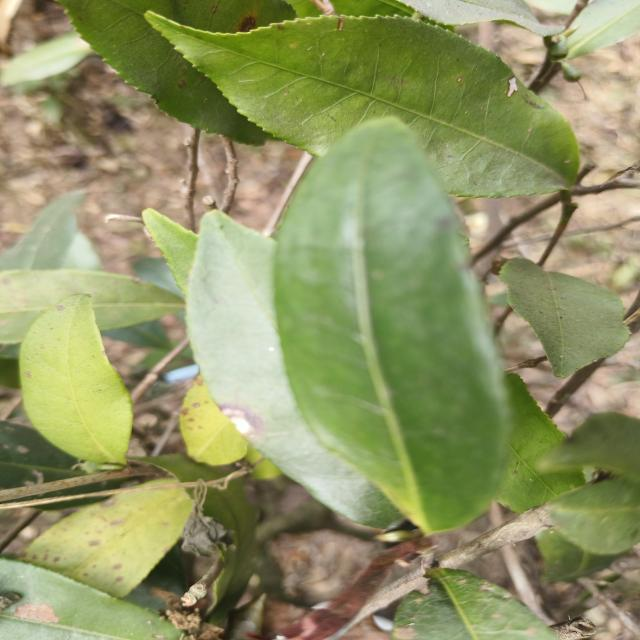Leaf: (275, 119, 513, 533), (146, 13, 579, 197), (186, 211, 399, 527), (60, 0, 297, 144), (20, 294, 133, 464), (20, 489, 192, 597), (499, 258, 629, 378), (0, 558, 181, 640), (0, 269, 185, 343), (494, 374, 585, 513), (392, 568, 559, 640), (203, 477, 258, 626), (0, 191, 101, 270), (549, 478, 640, 555), (539, 412, 640, 479), (0, 421, 87, 490), (180, 376, 247, 465), (0, 31, 92, 86), (566, 0, 640, 59), (156, 454, 227, 482), (31, 479, 124, 498), (38, 498, 98, 510)
